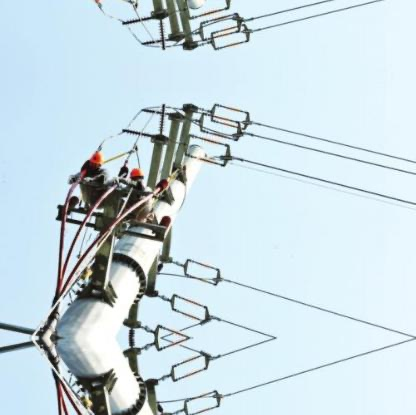Safety Helmet: (84, 147, 111, 176), (125, 162, 148, 186)
